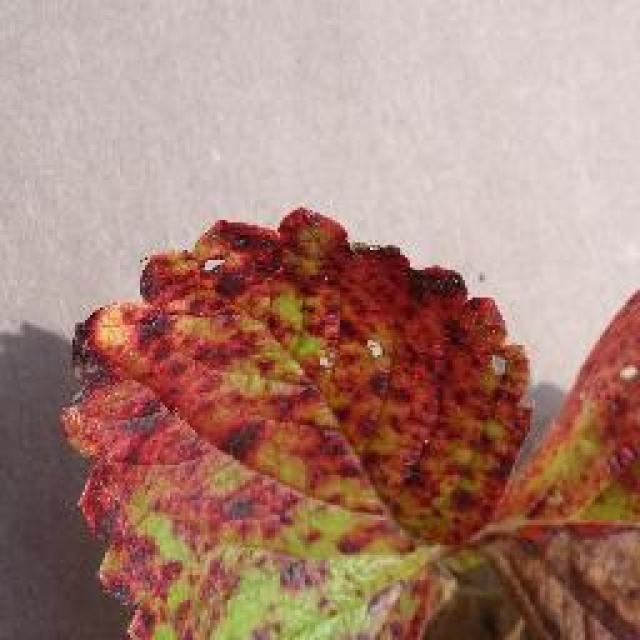Strawberry___Leaf_scorch: (40, 182, 638, 640)
